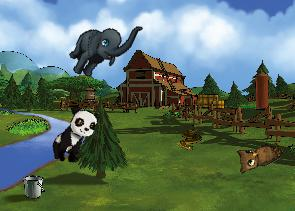elephant: (63, 4, 143, 91)
owl: (230, 130, 284, 178)
panda: (47, 102, 102, 169)
